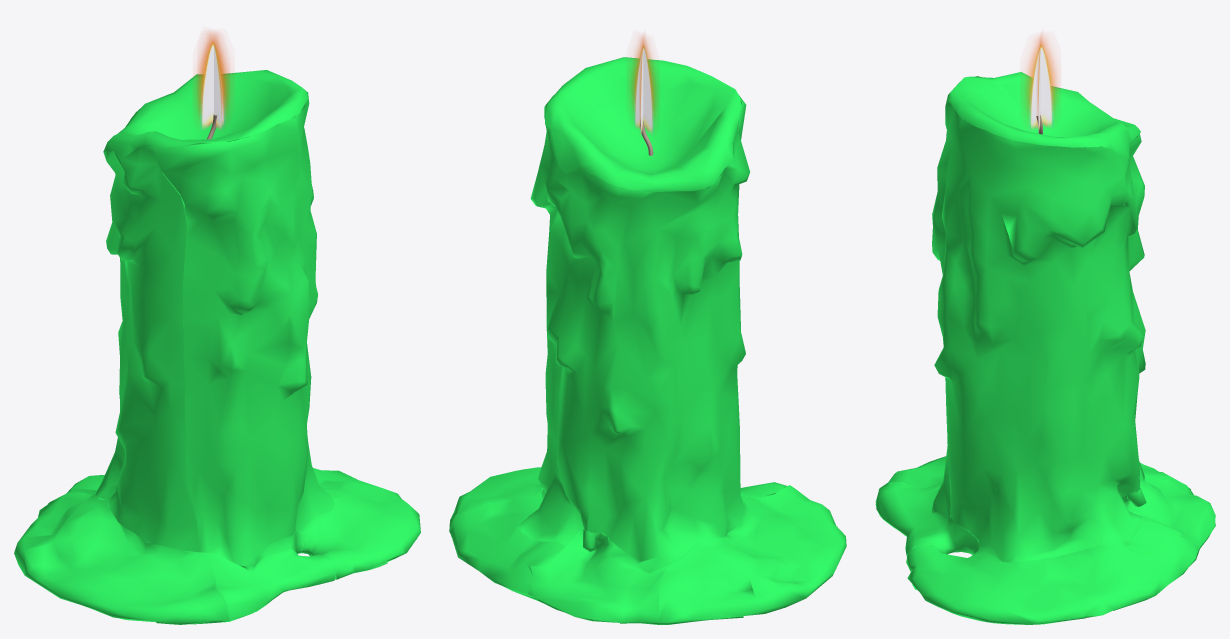
File: XCandle1.glb
3 renders of one model, left to right at view 1: azimuth 30°, elevation 25°; view 2: azimuth 150°, elevation 25°; view 3: azimuth 270°, elevation 25°, orthographic.
Visible parts, largest first — view 1: Candle.000, FLAME.000; view 2: Candle.000, FLAME.000; view 3: Candle.000, FLAME.000.
Boxes of the visible parts, left/top/right/bottom form: Candle.000: left=14, top=70, right=420, bottom=624; FLAME.000: left=195, top=31, right=230, bottom=130; Candle.000: left=449, top=57, right=846, bottom=624; FLAME.000: left=630, top=34, right=657, bottom=134; Candle.000: left=875, top=72, right=1215, bottom=624; FLAME.000: left=1024, top=33, right=1058, bottom=131.
Bounding box in the file's own units: 2.61 × 3.62 × 2.17.
3 materials, 1 textured.
